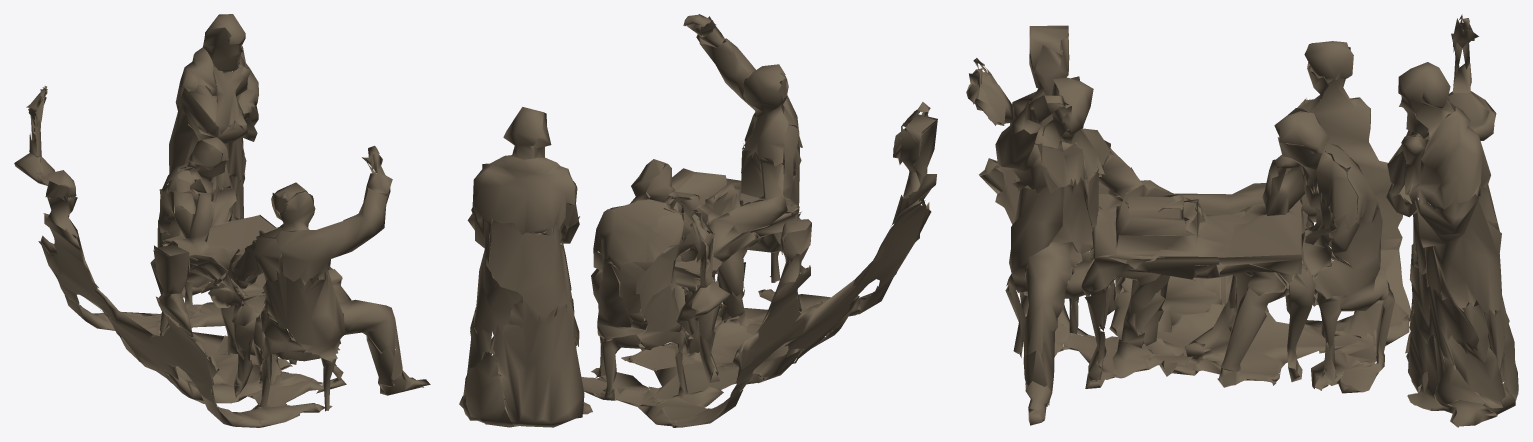
Rendered from inventors-h31-far.glb.
3 views of the same model, side by side, from view 1: azimuth 30°, elevation 25°; view 2: azimuth 150°, elevation 25°; view 3: azimuth 270°, elevation 25° (orthographic). The views are drawn at different scales.
Parts seen in each view (by area): view 1: tripo_node_adf38955-7bd9-4405-8c46-9303ad2b9516; view 2: tripo_node_adf38955-7bd9-4405-8c46-9303ad2b9516; view 3: tripo_node_adf38955-7bd9-4405-8c46-9303ad2b9516.
Boxes of the visible parts, x1,y1,x2,y2 form: tripo_node_adf38955-7bd9-4405-8c46-9303ad2b9516: [14, 14, 430, 427]; tripo_node_adf38955-7bd9-4405-8c46-9303ad2b9516: [459, 14, 937, 427]; tripo_node_adf38955-7bd9-4405-8c46-9303ad2b9516: [966, 14, 1518, 427].
Size of the model in its own units: 2.13 by 2.08 by 3.07.
